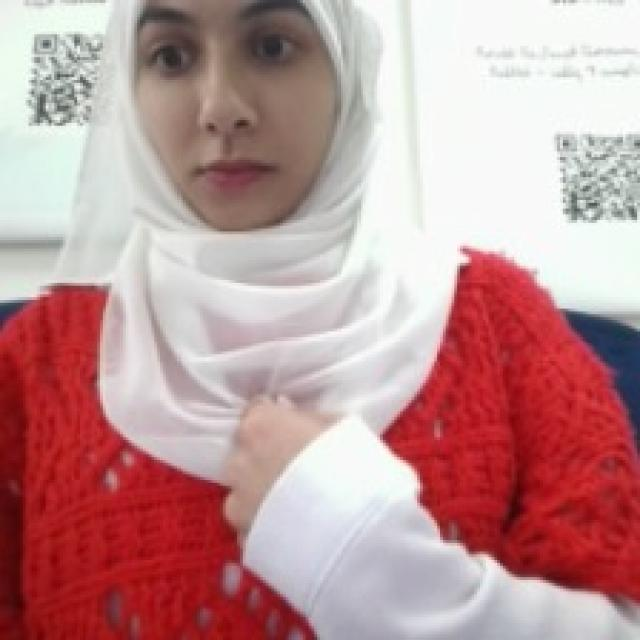me: (214, 386, 349, 544)
